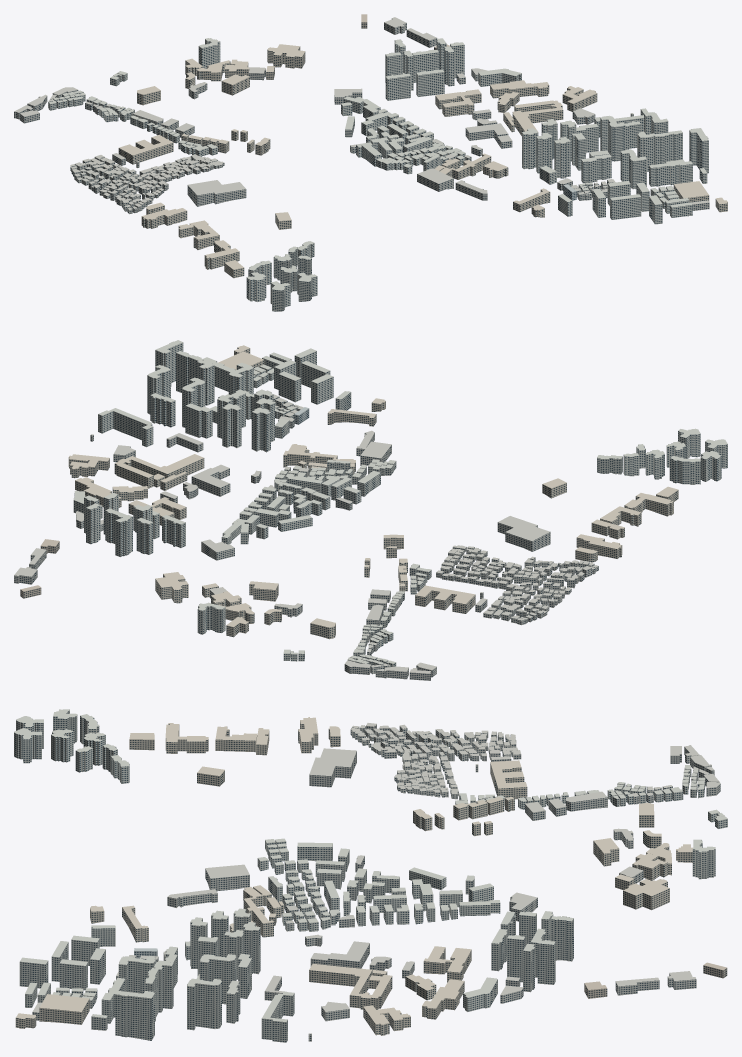
The model's file is city_4_-5.glb.
3 renders of one model, top to bottom at view 1: azimuth 30°, elevation 25°; view 2: azimuth 150°, elevation 25°; view 3: azimuth 270°, elevation 25°, orthographic. The views are drawn at different scales.
Size of the model in its own units: 1017 by 80.97 by 1019.
Materials: 5 (5 with a texture image).
